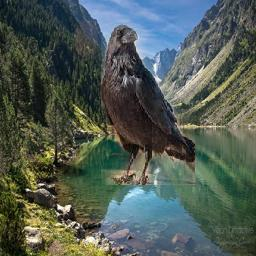Crow: (101, 25, 195, 186)
